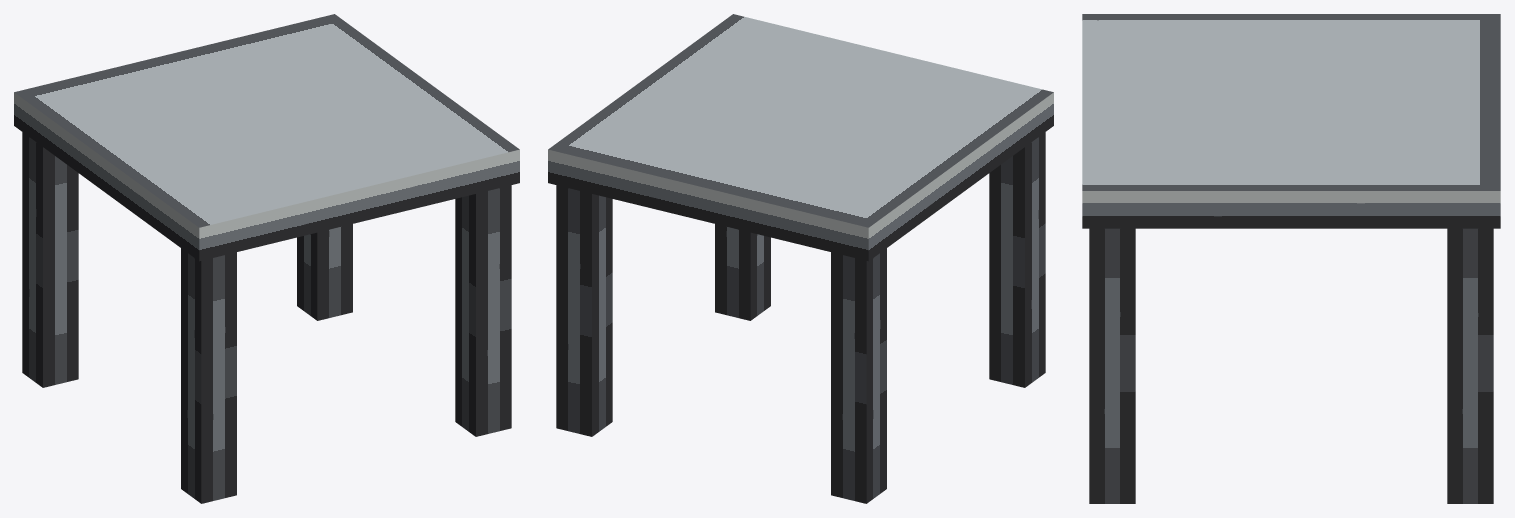
Rendered from table_single_4legs.glb.
3 views of the same model, side by side, from view 1: azimuth 30°, elevation 25°; view 2: azimuth 150°, elevation 25°; view 3: azimuth 270°, elevation 25° (orthographic). The views are drawn at different scales.
Visible parts, largest first — view 1: table_single_4legs; view 2: table_single_4legs; view 3: table_single_4legs.
Part boxes in pixels (x1=…): table_single_4legs: x1=14, y1=14, x2=519, y2=503; table_single_4legs: x1=548, y1=14, x2=1053, y2=503; table_single_4legs: x1=1082, y1=14, x2=1500, y2=503.
Size of the model in its own units: 0.9 by 0.75 by 0.9.
1 material, 1 textured.
